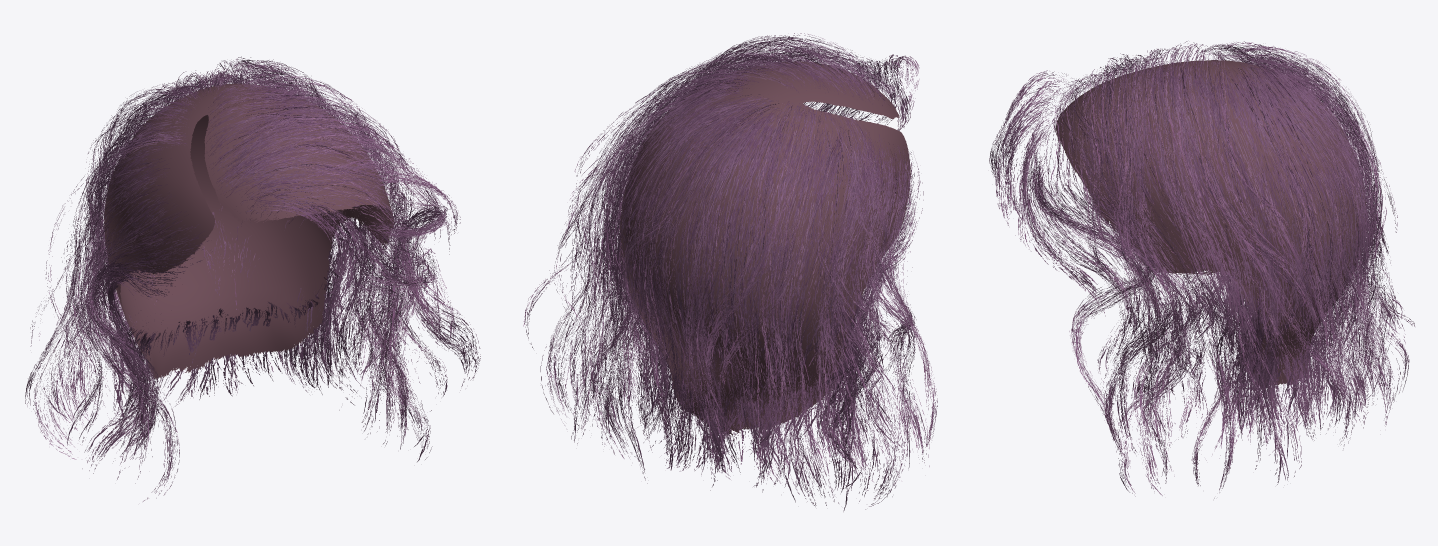
File: serahreikkahairv1B.FBX
3 views of the same model, side by side, from view 1: azimuth 30°, elevation 25°; view 2: azimuth 150°, elevation 25°; view 3: azimuth 270°, elevation 25° (orthographic). The views are drawn at different scales.
Visible parts, largest first — view 1: sf-hairbody; view 2: sf-hairbody; view 3: sf-hairbody.
Part boxes in pixels (<box>): sf-hairbody: <box>25,56,480,501</box>; sf-hairbody: <box>523,33,937,511</box>; sf-hairbody: <box>989,41,1414,498</box>.
Size of the model in its own units: 71.13 by 75.71 by 68.16.
Materials: 9 (8 with a texture image).
